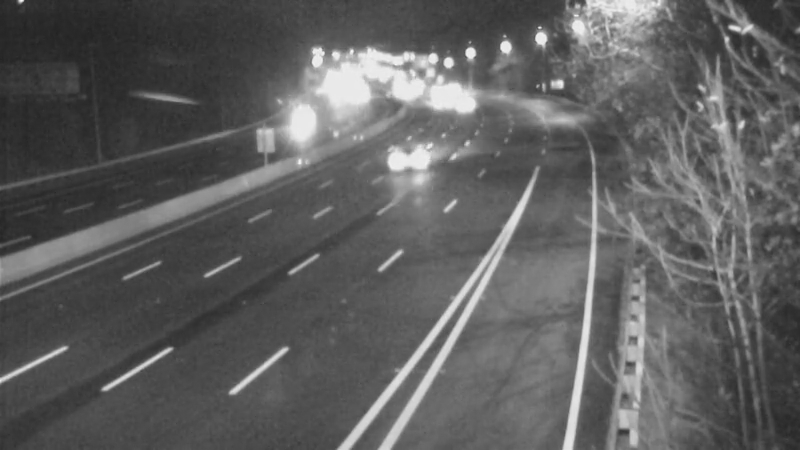vehicle: (361, 116, 441, 196), (441, 78, 491, 128), (273, 95, 323, 145)
